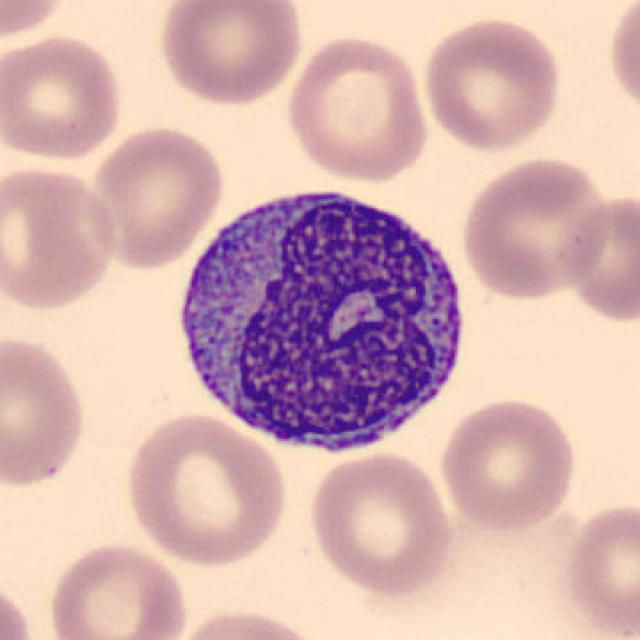Monocyte: (167, 173, 475, 462)
RBC: (119, 409, 292, 570), (457, 152, 615, 302), (281, 32, 434, 185), (304, 448, 455, 598), (81, 121, 228, 272), (418, 13, 565, 154), (436, 395, 580, 532), (0, 162, 123, 314), (0, 30, 128, 164), (154, 0, 305, 109), (42, 539, 190, 640), (0, 331, 89, 492), (558, 497, 640, 638), (558, 190, 640, 326), (165, 604, 330, 640), (606, 0, 640, 122), (0, 0, 71, 44), (0, 571, 43, 640)
